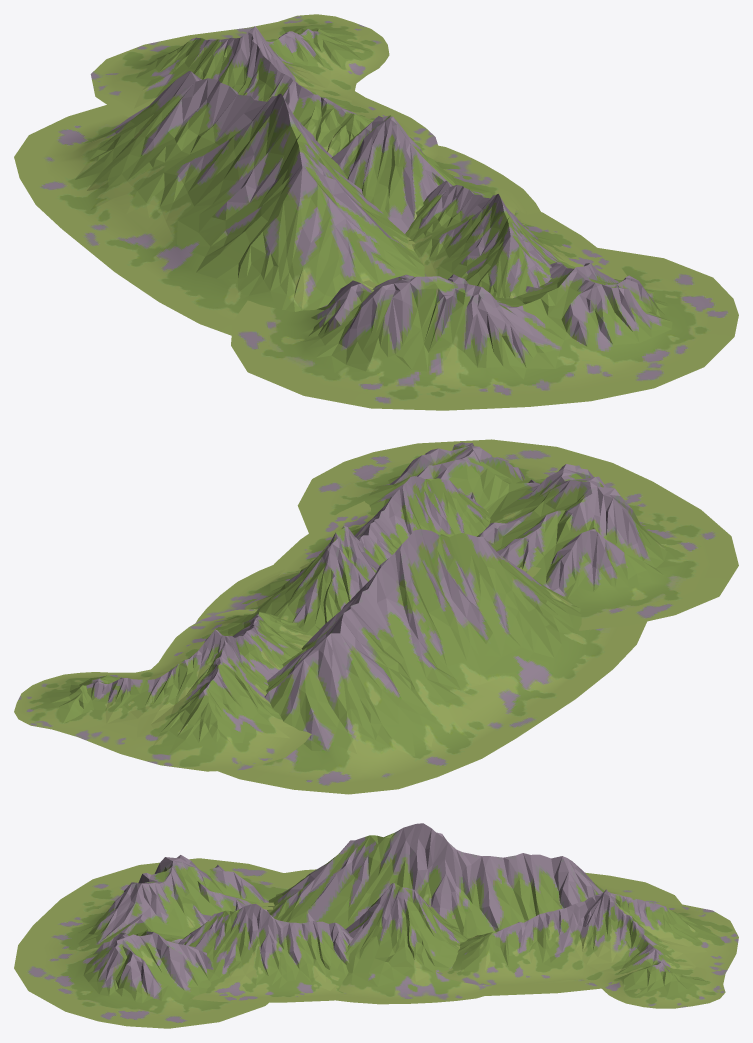
Rendered from build_mountain_E 1.FBX.
The picture shows the model from 3 angles, top to bottom: view 1: azimuth 30°, elevation 25°; view 2: azimuth 150°, elevation 25°; view 3: azimuth 270°, elevation 25°; orthographic projection. The views are drawn at different scales.
Parts seen in each view (by area): view 1: mountain_C_grass_LOD0_001, mountain_D_grass_LOD0_001, mountain_A_grass_LOD0_0, mountain_C_grass_LOD0_0, mountain_D_grass_edge_LOD0_001, mountain_B_grass_LOD0_0, mountain_C_grass_edge_LOD0_001, mountain_C_grass_edge_LOD0_0, mountain_B_grass_edge_LOD0_0; view 2: mountain_C_grass_LOD0_001, mountain_D_grass_LOD0_001, mountain_A_grass_LOD0_0, mountain_D_grass_edge_LOD0_001, mountain_B_grass_LOD0_0, mountain_C_grass_edge_LOD0_001, mountain_C_grass_LOD0_0, mountain_C_grass_edge_LOD0_0, mountain_B_grass_edge_LOD0_0; view 3: mountain_D_grass_LOD0_001, mountain_A_grass_LOD0_0, mountain_C_grass_LOD0_001, mountain_C_grass_LOD0_0, mountain_B_grass_LOD0_0, mountain_D_grass_edge_LOD0_001, mountain_C_grass_edge_LOD0_001, mountain_B_grass_edge_LOD0_0, mountain_C_grass_edge_LOD0_0.
Boxes of the visible parts, left/top/right/bottom form: mountain_C_grass_LOD0_001: left=42, top=71, right=424, bottom=320; mountain_D_grass_LOD0_001: left=259, top=262, right=708, bottom=398; mountain_A_grass_LOD0_0: left=90, top=14, right=438, bottom=159; mountain_C_grass_LOD0_0: left=405, top=181, right=611, bottom=298; mountain_D_grass_edge_LOD0_001: left=231, top=248, right=738, bottom=410; mountain_B_grass_LOD0_0: left=331, top=115, right=526, bottom=233; mountain_C_grass_edge_LOD0_001: left=14, top=105, right=232, bottom=335; mountain_C_grass_edge_LOD0_0: left=515, top=208, right=627, bottom=279; mountain_B_grass_edge_LOD0_0: left=438, top=145, right=540, bottom=214; mountain_C_grass_LOD0_001: left=250, top=529, right=617, bottom=782; mountain_D_grass_LOD0_001: left=326, top=442, right=709, bottom=618; mountain_A_grass_LOD0_0: left=14, top=609, right=312, bottom=771; mountain_D_grass_edge_LOD0_001: left=297, top=439, right=738, bottom=630; mountain_B_grass_LOD0_0: left=216, top=526, right=380, bottom=636; mountain_C_grass_edge_LOD0_001: left=217, top=621, right=646, bottom=794; mountain_C_grass_LOD0_0: left=283, top=476, right=490, bottom=573; mountain_C_grass_edge_LOD0_0: left=273, top=501, right=370, bottom=575; mountain_B_grass_edge_LOD0_0: left=196, top=565, right=286, bottom=622; mountain_D_grass_LOD0_001: left=37, top=855, right=288, bottom=1018; mountain_A_grass_LOD0_0: left=437, top=889, right=738, bottom=1008; mountain_C_grass_LOD0_001: left=267, top=823, right=658, bottom=985; mountain_C_grass_LOD0_0: left=178, top=904, right=353, bottom=997; mountain_B_grass_LOD0_0: left=337, top=883, right=494, bottom=999; mountain_D_grass_edge_LOD0_001: left=14, top=858, right=300, bottom=1028; mountain_C_grass_edge_LOD0_001: left=284, top=869, right=681, bottom=995; mountain_B_grass_edge_LOD0_0: left=335, top=985, right=507, bottom=1004; mountain_C_grass_edge_LOD0_0: left=190, top=993, right=351, bottom=1002.
Size of the model in its own units: 39.49 by 11.56 by 70.91.
